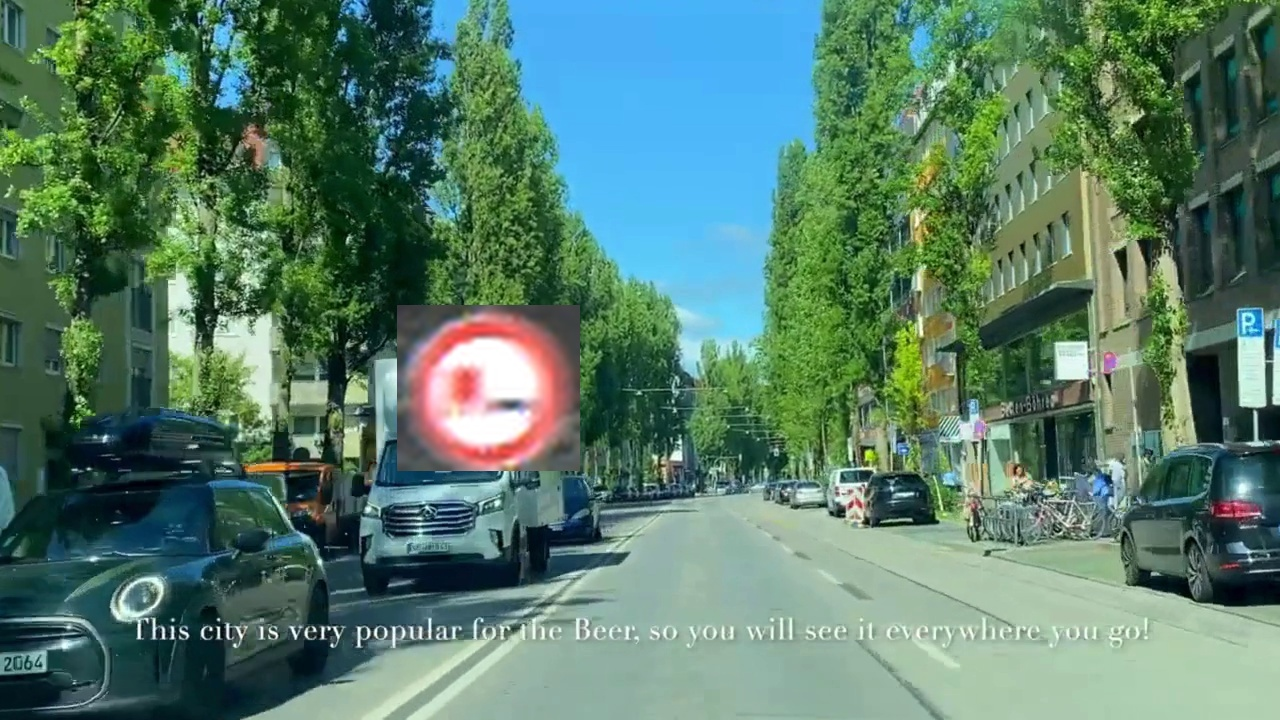No pass >3.5t: (397, 305, 580, 471)
